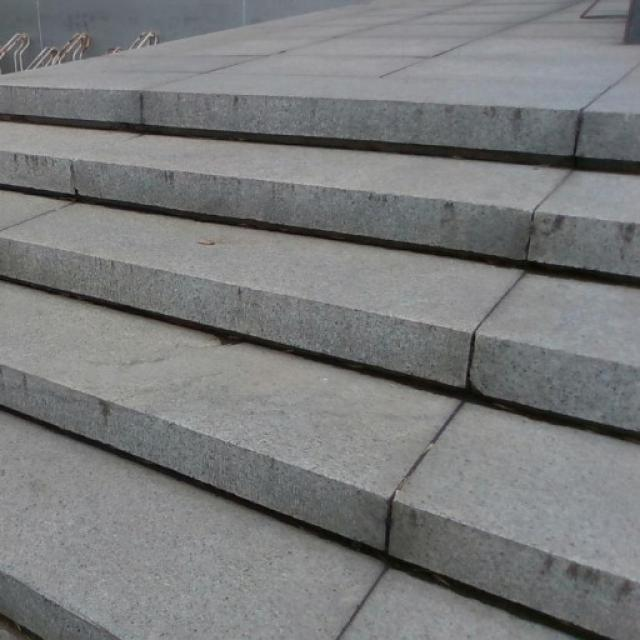Stairs: (0, 87, 639, 638)
